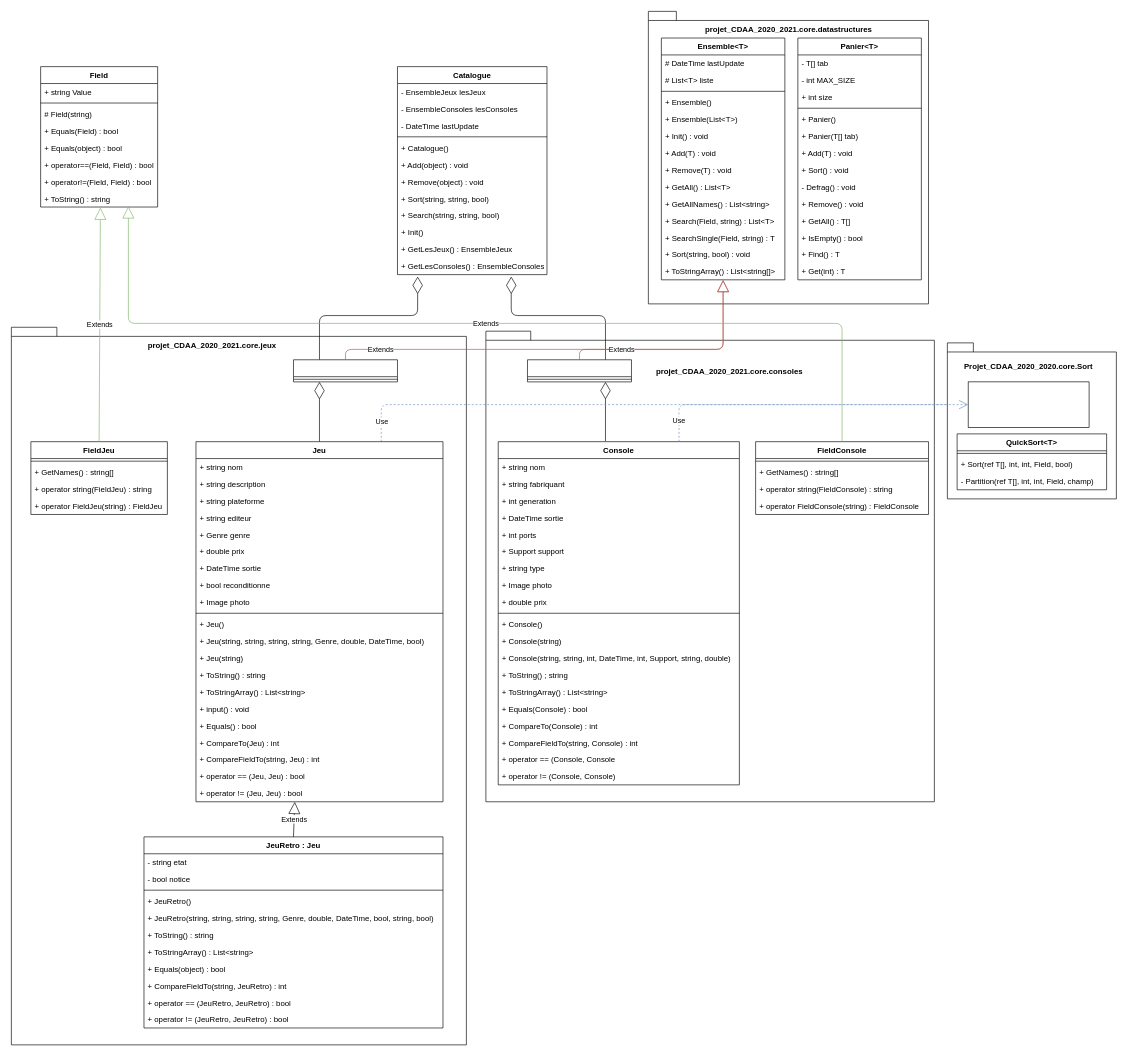
Some shapes in this 1128 by 1056 pixel diagram are drawn without their labels. The shapes that lost their labels are listed below. From the top down, each one's box as (x1, y1, x2, y2) in pixels, then its label:
(293, 359, 397, 382): EnsembleJeux
(527, 359, 631, 382): EnsembleConsoles
(968, 381, 1089, 427): <<Interface>> IFieldComparable<T> + CompareFieldTo(Field, T) : int
(485, 331, 934, 802): package
